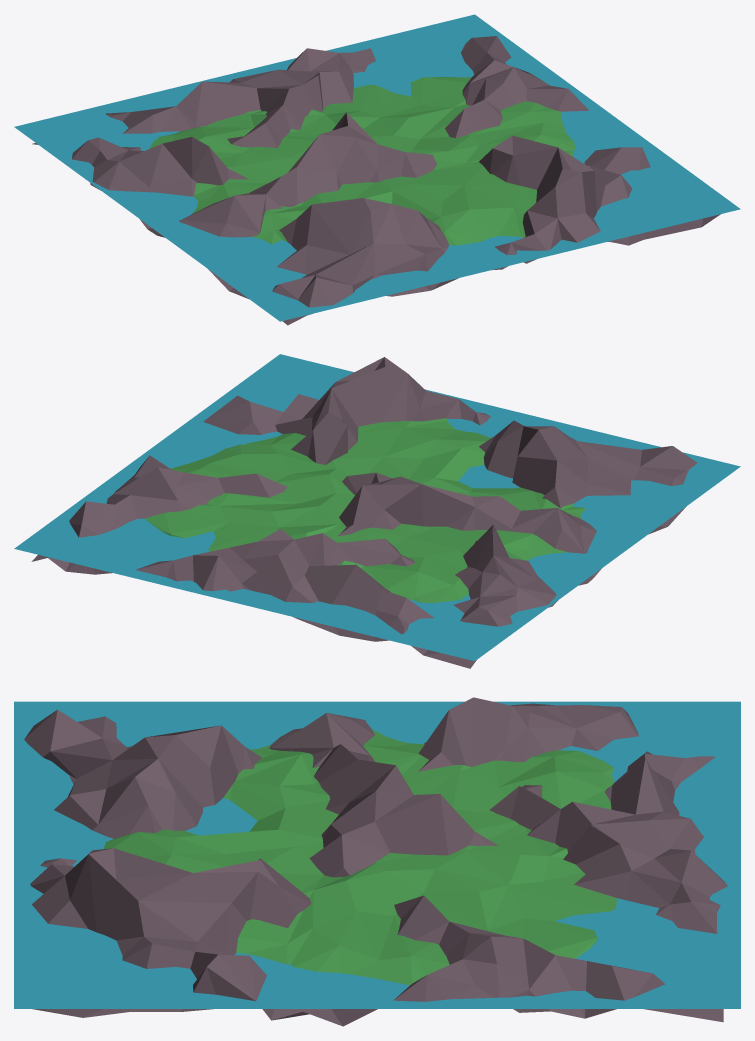
File: circle_world.fbx
3 renders of one model, top to bottom at view 1: azimuth 30°, elevation 25°; view 2: azimuth 150°, elevation 25°; view 3: azimuth 270°, elevation 25°, orthographic. The views are drawn at different scales.
Visible parts, largest first — view 1: Mountains, WaterPlane, Ground; view 2: Mountains, WaterPlane, Ground; view 3: Mountains, WaterPlane, Ground.
Part boxes in pixels (box(x1,y1,x2,y2)): Mountains: box(32, 36, 720, 325); WaterPlane: box(14, 14, 740, 321); Ground: box(149, 77, 575, 245); Mountains: box(31, 357, 696, 668); WaterPlane: box(14, 354, 740, 661); Ground: box(144, 418, 586, 602); Mountains: box(24, 697, 727, 1026); WaterPlane: box(14, 701, 740, 1008); Ground: box(103, 729, 616, 985).
Size of the model in its own units: 3200 by 3203 by 449.
